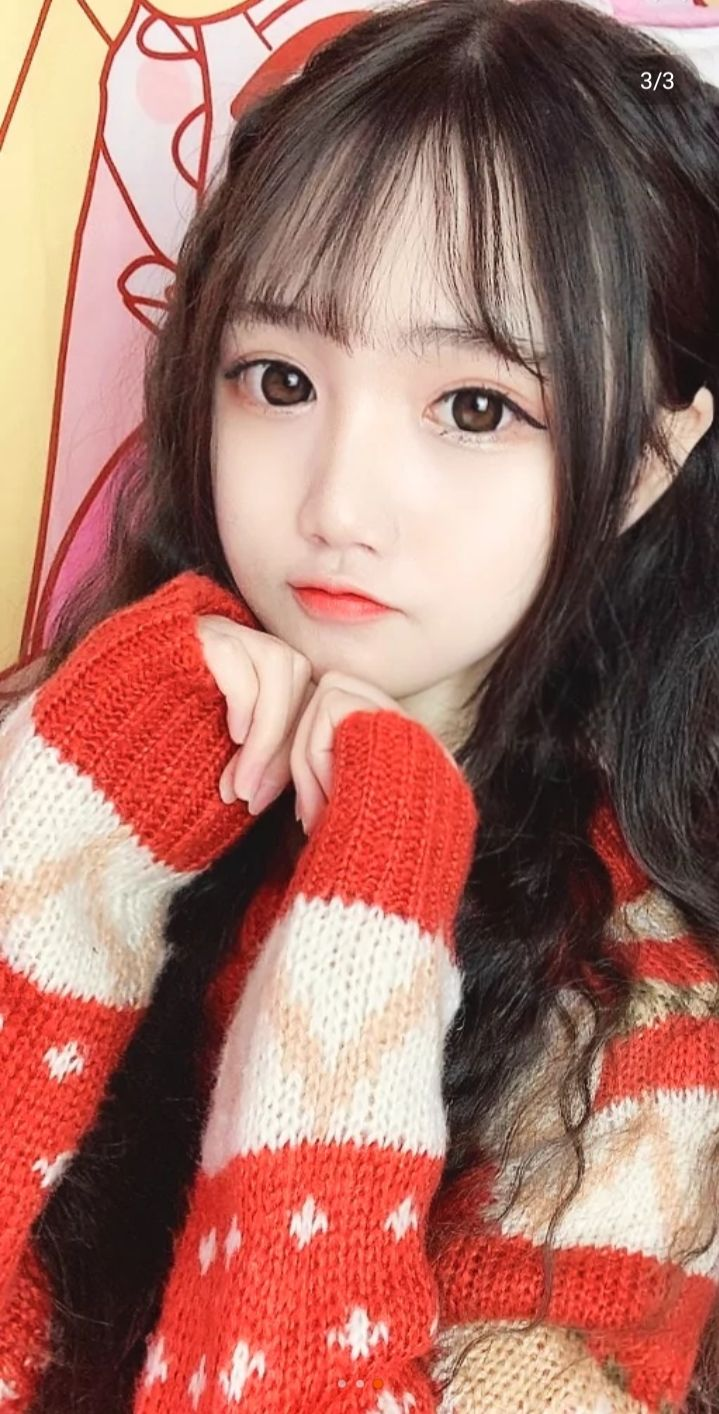person: (124, 59, 719, 1142)
